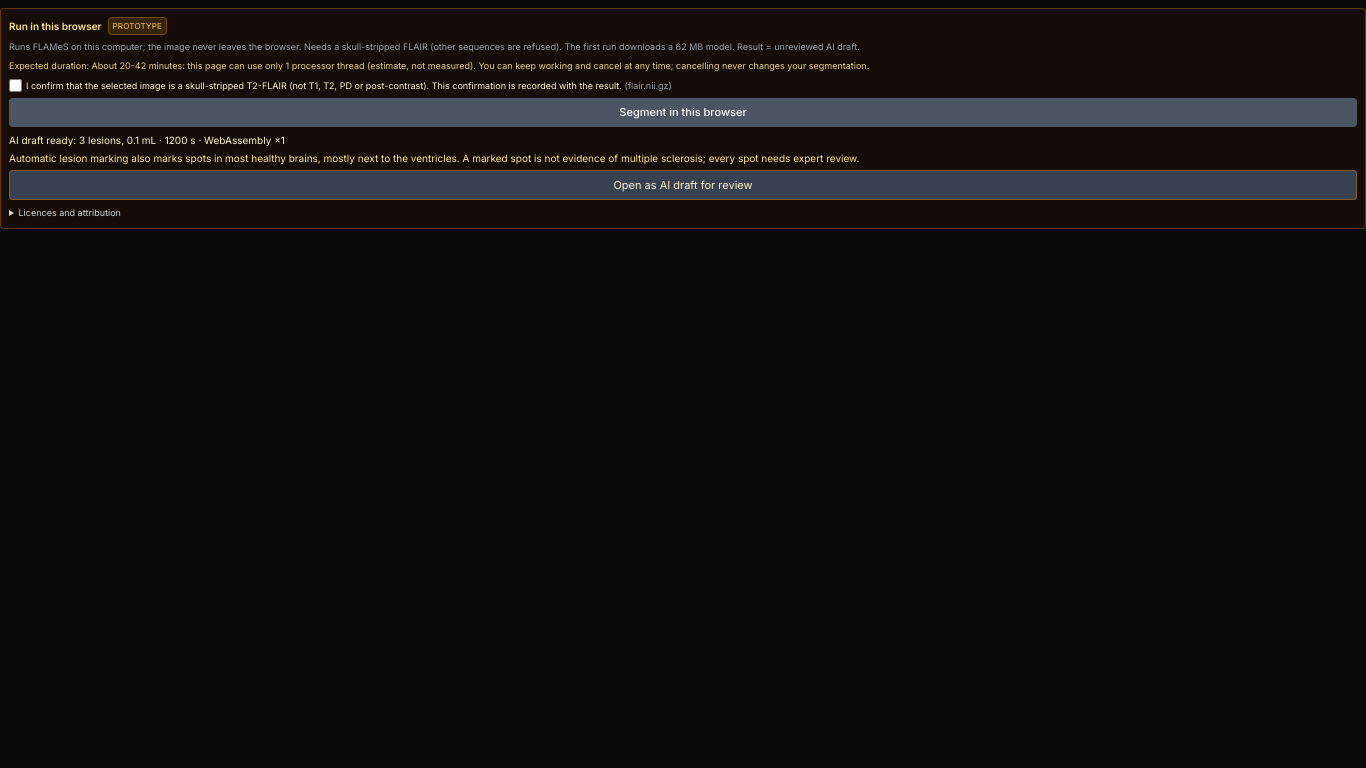
Test case: unsaved work (REQ-SAFE-032) › rc050 asks before replacing unsaved work and only discards after an explicit choice
Click the button "Open as AI draft for review".
click(683, 185)  # box [9,170,1357,200]
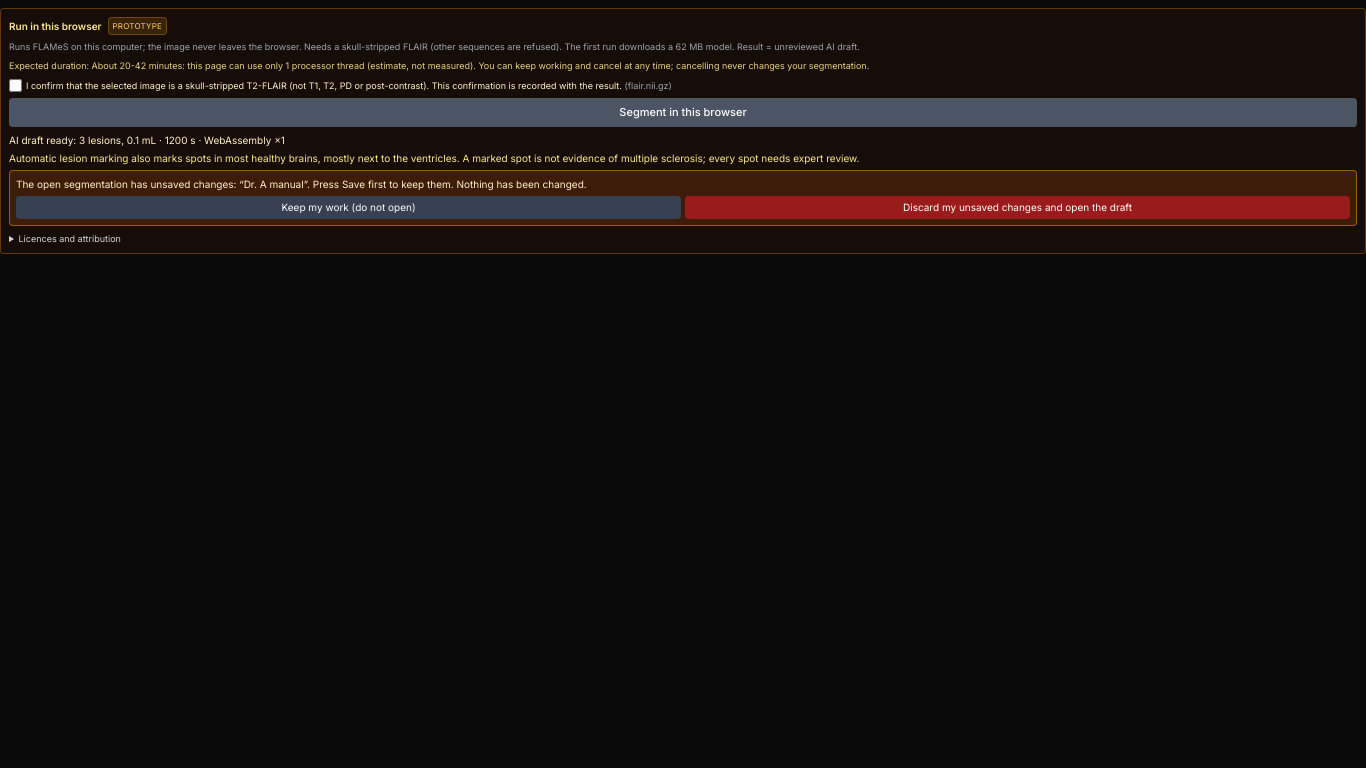
Now the dialog with test id "browser-flames-unsaved" shows "Dr. A manual", box [244,178,304,190]
Click the button "Keep my work (do not open)".
click(348, 207)  # box [16,196,681,219]
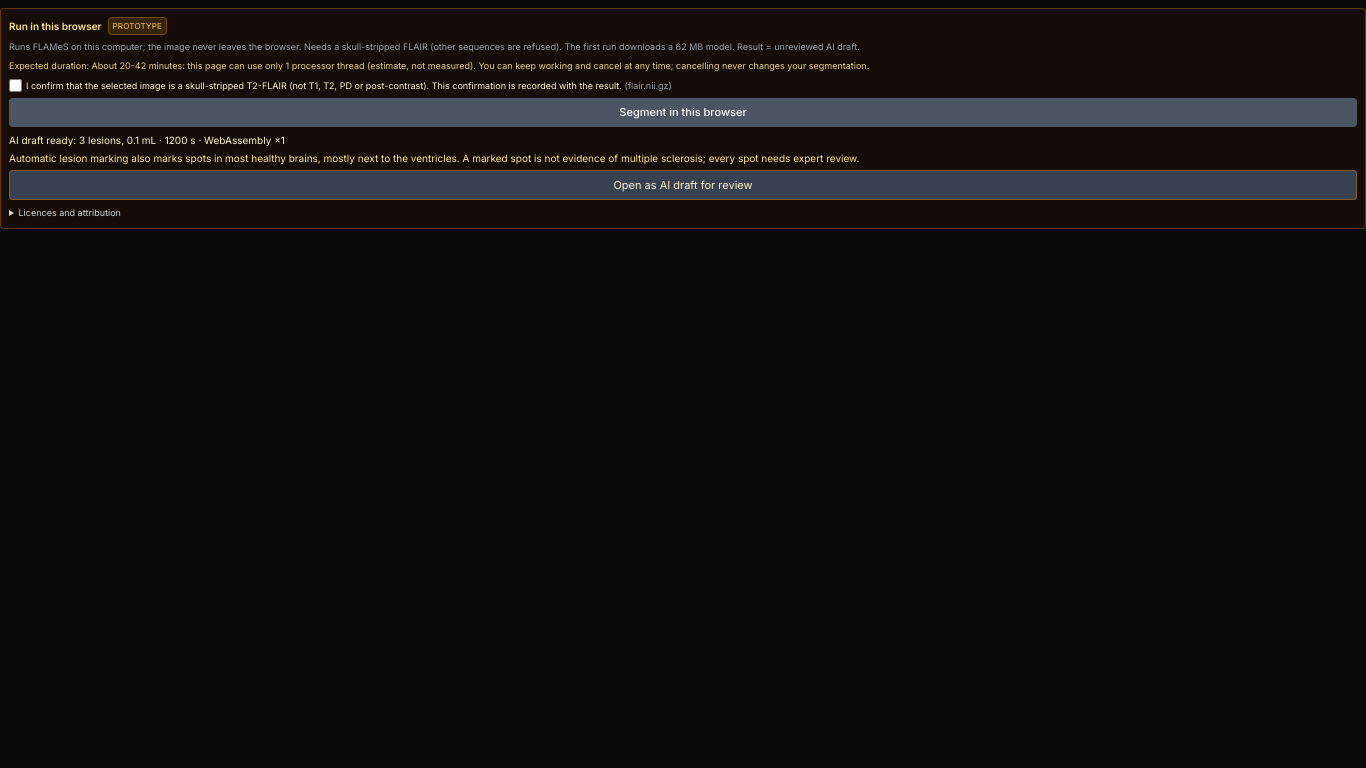
Now the dialog with test id "browser-flames-unsaved" is gone
Click the button "Open as AI draft for review".
click(683, 185)  # box [9,170,1357,200]
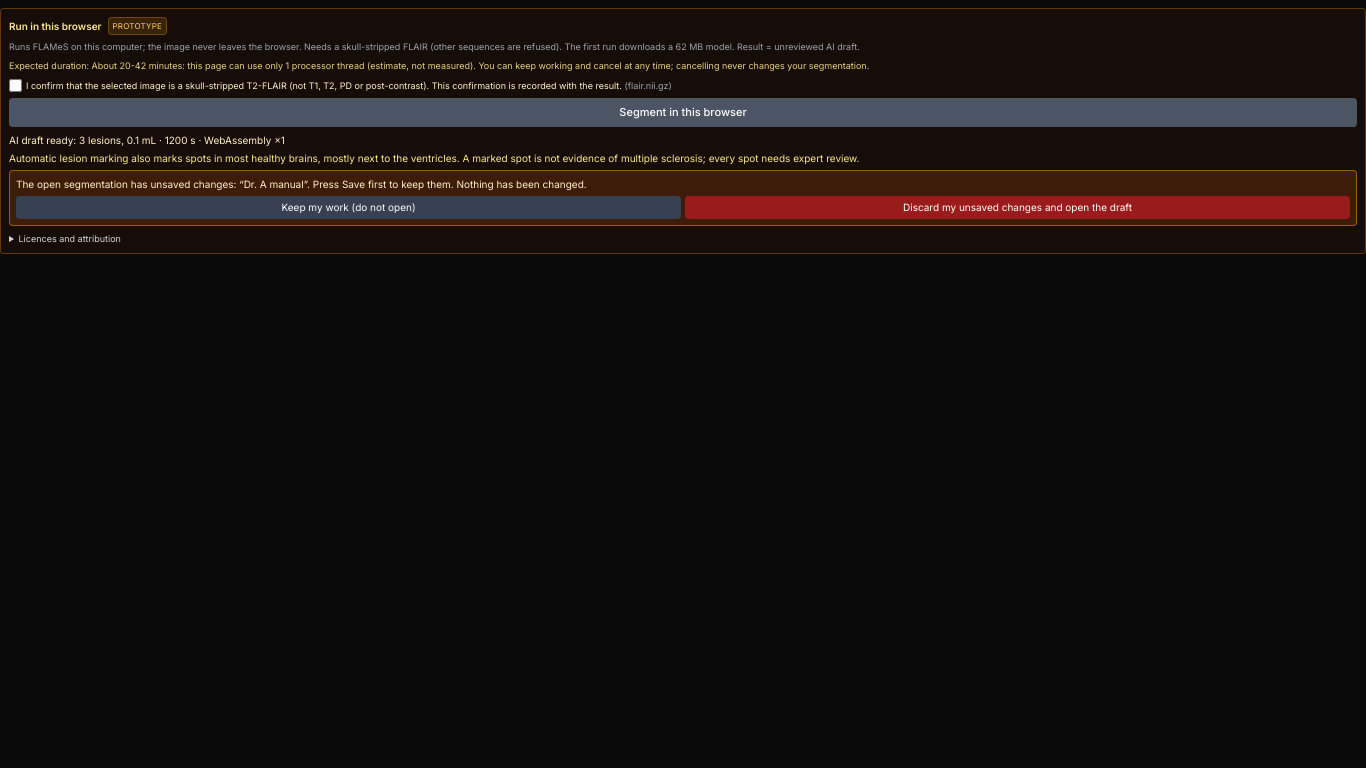
Click the button "Discard my unsaved changes and open the draft".
click(1018, 207)  # box [685,196,1350,219]
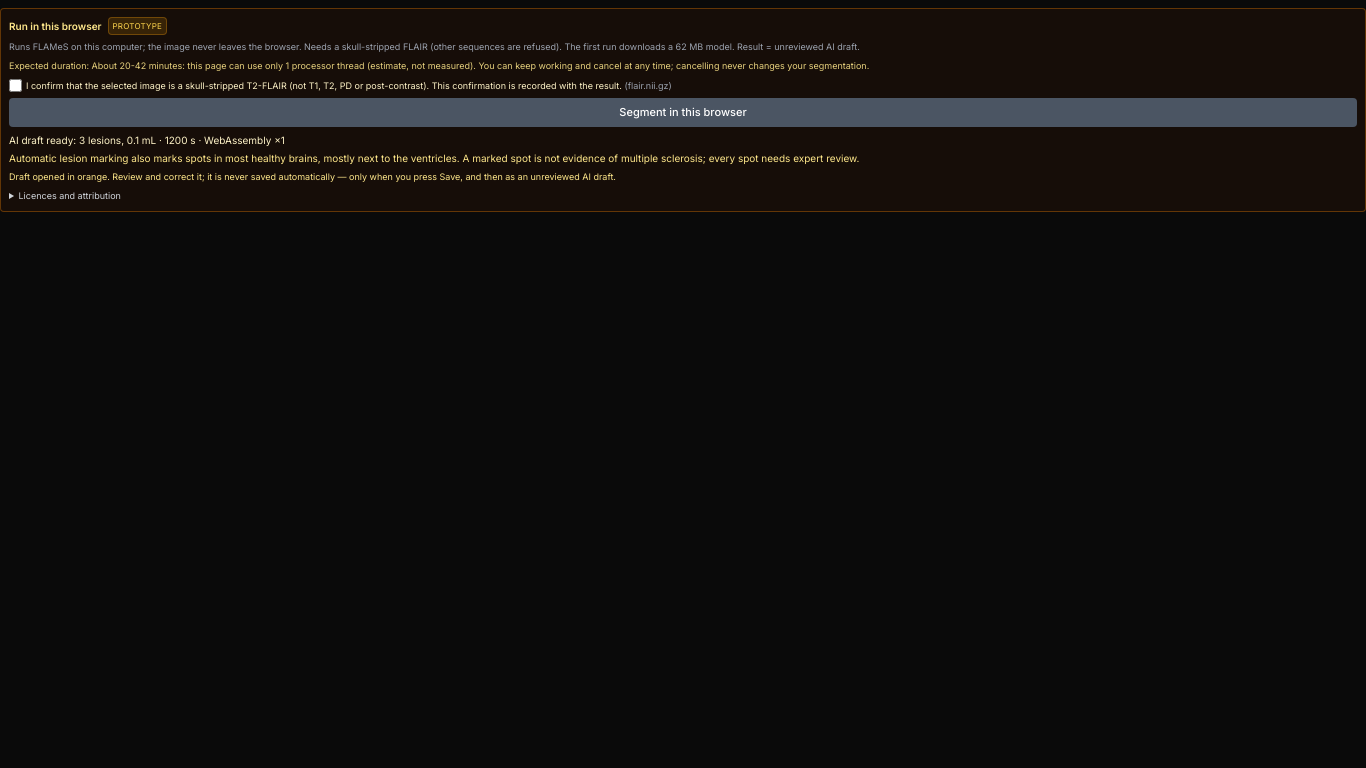
Now the text "never saved automatically" is shown, box [9,171,616,182]
